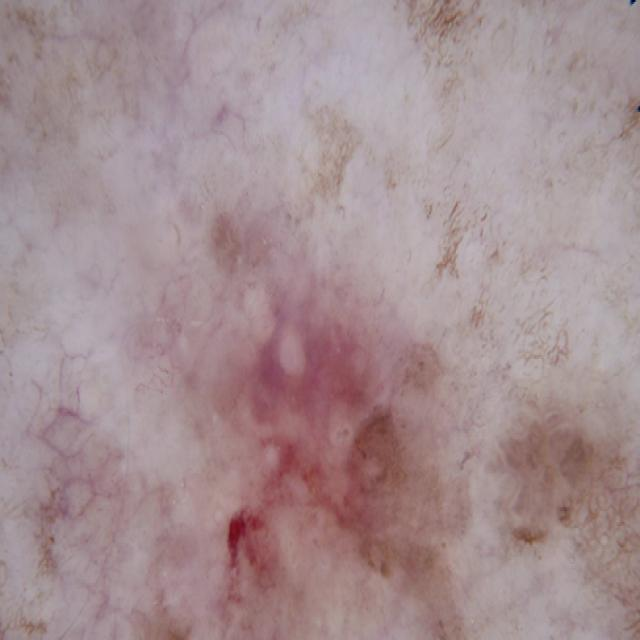Keratosis: (162, 211, 505, 640)
